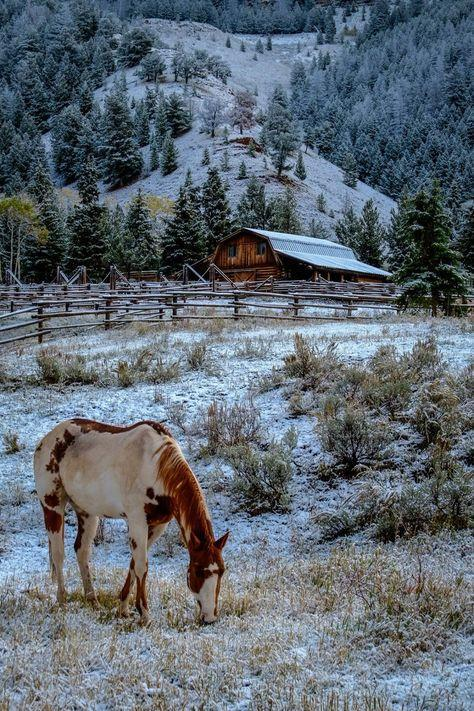horse: (32, 416, 230, 627)
